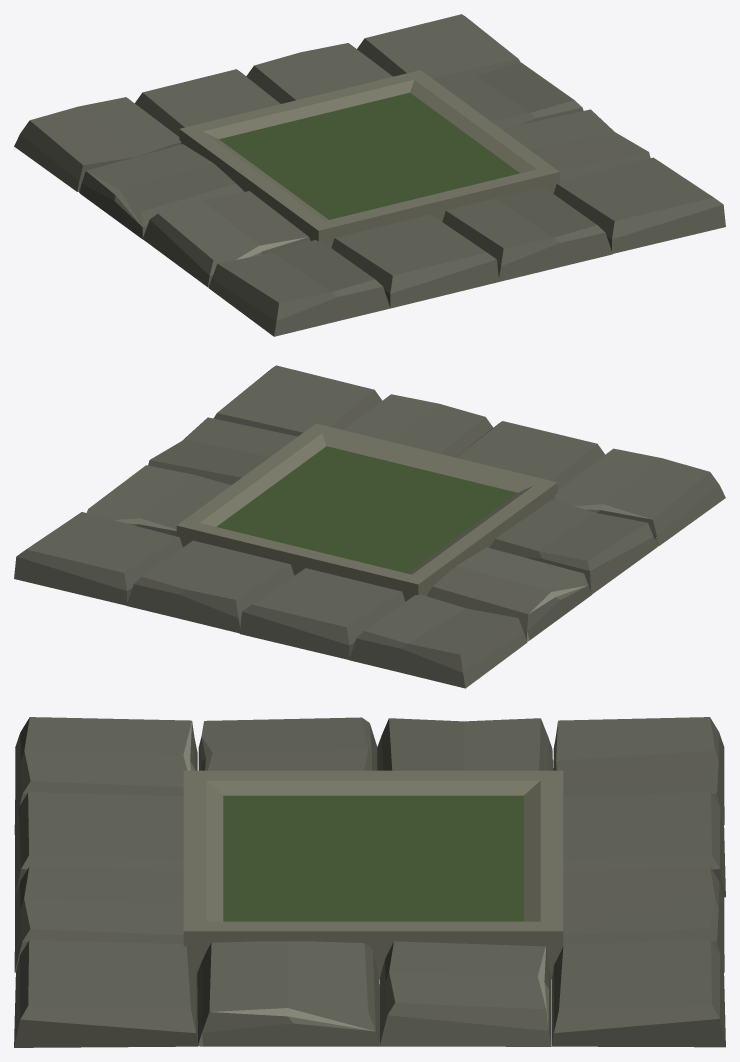
File: Floor_Tree.glb
The picture shows the model from 3 angles, top to bottom: view 1: azimuth 30°, elevation 25°; view 2: azimuth 150°, elevation 25°; view 3: azimuth 270°, elevation 25°; orthographic projection. The views are drawn at different scales.
Visible parts, largest first — view 1: Floor_Tree; view 2: Floor_Tree; view 3: Floor_Tree.
Boxes of the visible parts, box(x1,y1,x2,y2) form: Floor_Tree: box(14, 14, 725, 336); Floor_Tree: box(14, 365, 725, 688); Floor_Tree: box(14, 717, 725, 1047).
Bounding box in the file's own units: 199 × 14.84 × 200.
